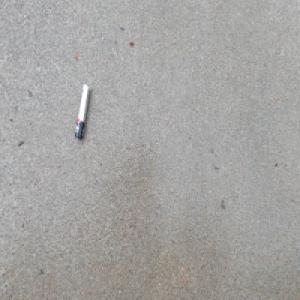Battery: (74, 83, 91, 141)
